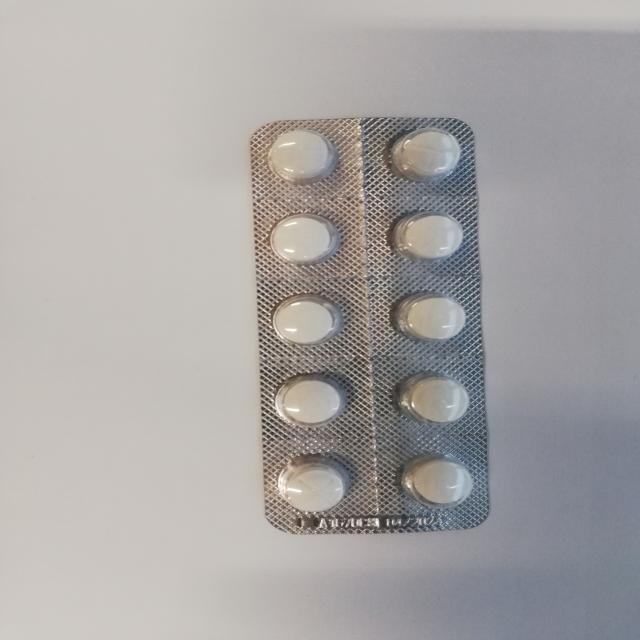Pill: (270, 450, 368, 521), (270, 364, 354, 439), (396, 456, 487, 515), (382, 126, 468, 188), (263, 290, 348, 352), (261, 208, 343, 272), (260, 128, 344, 190), (387, 289, 472, 350), (394, 207, 472, 271), (398, 370, 476, 430)
